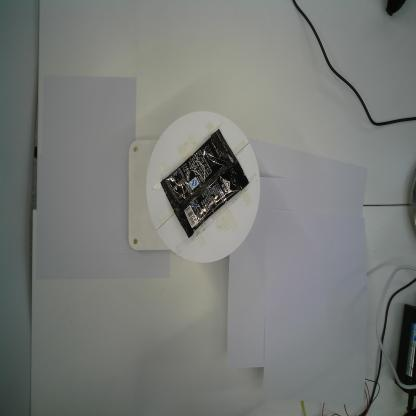Instant Drink: (160, 128, 250, 239)
